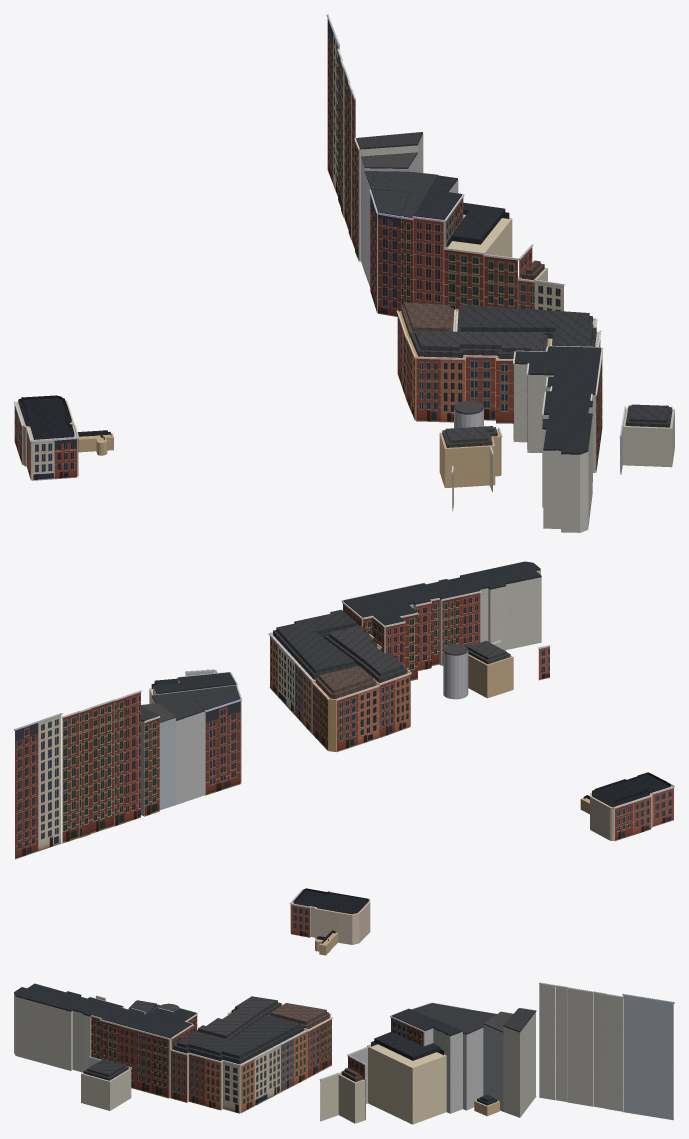
The picture shows the model from 3 angles, top to bottom: view 1: azimuth 30°, elevation 25°; view 2: azimuth 150°, elevation 25°; view 3: azimuth 270°, elevation 25°; orthographic projection. The views are drawn at different scales.
Visible parts, largest first — view 1: bldg_496458474, bldg_496458474_roof, bldg_496458475_roof_b, bldg_496476778_facade1, bldg_496454125_facade1, bldg_496476777, bldg_496476778_roof_b, bldg_496471753_facade1, bldg_496454124_facade0, bldg_496457175, bldg_489131973_facade1, bldg_496454130_facade2 (+18 smaller); view 2: bldg_496454130_facade2, bldg_496458474_roof, bldg_496458474, bldg_496454131_facade4, bldg_496471753_facade0, bldg_496458475_roof_b, bldg_496454127, bldg_496458475_facade0, bldg_496702612_facade1, bldg_496454131_facade2, bldg_496458474_facade10, bldg_496454131_facade6 (+25 smaller); view 3: bldg_496454130_facade2, bldg_496454124, bldg_496458474, bldg_496458474_facade0, bldg_496458474_roof, bldg_496458475_facade0, bldg_496454131_facade4, bldg_496454129, bldg_496458475_roof_b, bldg_496454131_facade2, bldg_496454131_facade6, bldg_489131973 (+26 smaller).
Boxes of the visible parts, x1=… form: bldg_496458474: x1=514, y1=350, x2=601, y2=532; bldg_496458474_roof: x1=515, y1=346, x2=601, y2=454; bldg_496458475_roof_b: x1=460, y1=304, x2=595, y2=346; bldg_496476778_facade1: x1=415, y1=356, x2=465, y2=422; bldg_496454125_facade1: x1=412, y1=216, x2=444, y2=304; bldg_496476777: x1=439, y1=429, x2=500, y2=488; bldg_496476778_roof_b: x1=414, y1=330, x2=544, y2=352; bldg_496471753_facade1: x1=377, y1=212, x2=401, y2=316; bldg_496454124_facade0: x1=443, y1=247, x2=484, y2=310; bldg_496457175: x1=623, y1=407, x2=674, y2=467; bldg_489131973_facade1: x1=31, y1=437, x2=77, y2=480; bldg_496454130_facade2: x1=326, y1=14, x2=339, y2=196; bldg_496454130_facade2: x1=14, y1=713, x2=62, y2=859; bldg_496458474_roof: x1=343, y1=561, x2=541, y2=625; bldg_496458474: x1=362, y1=570, x2=541, y2=665; bldg_496454131_facade4: x1=90, y1=699, x2=114, y2=833; bldg_496471753_facade0: x1=204, y1=699, x2=241, y2=795; bldg_496458475_roof_b: x1=276, y1=609, x2=356, y2=673; bldg_496454127: x1=151, y1=697, x2=204, y2=804; bldg_496458475_facade0: x1=268, y1=633, x2=312, y2=733; bldg_496702612_facade1: x1=335, y1=685, x2=379, y2=751; bldg_496454131_facade2: x1=62, y1=711, x2=79, y2=843; bldg_496458474_facade10: x1=441, y1=591, x2=481, y2=665; bldg_496454131_facade6: x1=125, y1=690, x2=141, y2=822; bldg_496454130_facade2: x1=622, y1=993, x2=674, y2=1120; bldg_496454124: x1=368, y1=1044, x2=446, y2=1124; bldg_496458474: x1=14, y1=993, x2=171, y2=1098; bldg_496458474_facade0: x1=99, y1=1019, x2=170, y2=1098; bldg_496458474_roof: x1=14, y1=983, x2=196, y2=1038; bldg_496458475_facade0: x1=239, y1=1029, x2=308, y2=1113; bldg_496454131_facade4: x1=567, y1=987, x2=593, y2=1106; bldg_496454129: x1=503, y1=1012, x2=535, y2=1117; bldg_496458475_roof_b: x1=176, y1=1014, x2=300, y2=1058; bldg_496454131_facade2: x1=605, y1=993, x2=623, y2=1111; bldg_496454131_facade6: x1=539, y1=982, x2=555, y2=1100; bldg_489131973: x1=292, y1=900, x2=370, y2=944.
Size of the model in its own units: 144 by 38.48 by 195.
46 materials, 24 textured.
